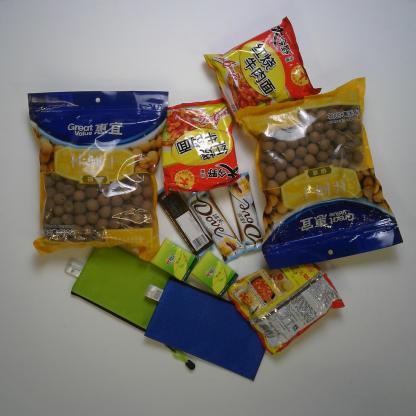Chocolate: (181, 184, 249, 267), (156, 184, 216, 259), (224, 169, 267, 257)
Dried Food: (233, 74, 405, 271), (22, 88, 170, 264)
Instant Noodles: (199, 13, 324, 120), (223, 259, 346, 358), (158, 94, 242, 196)
Stationery: (62, 243, 198, 373), (141, 273, 268, 383)
Tissue: (149, 236, 202, 286), (189, 248, 240, 299)
